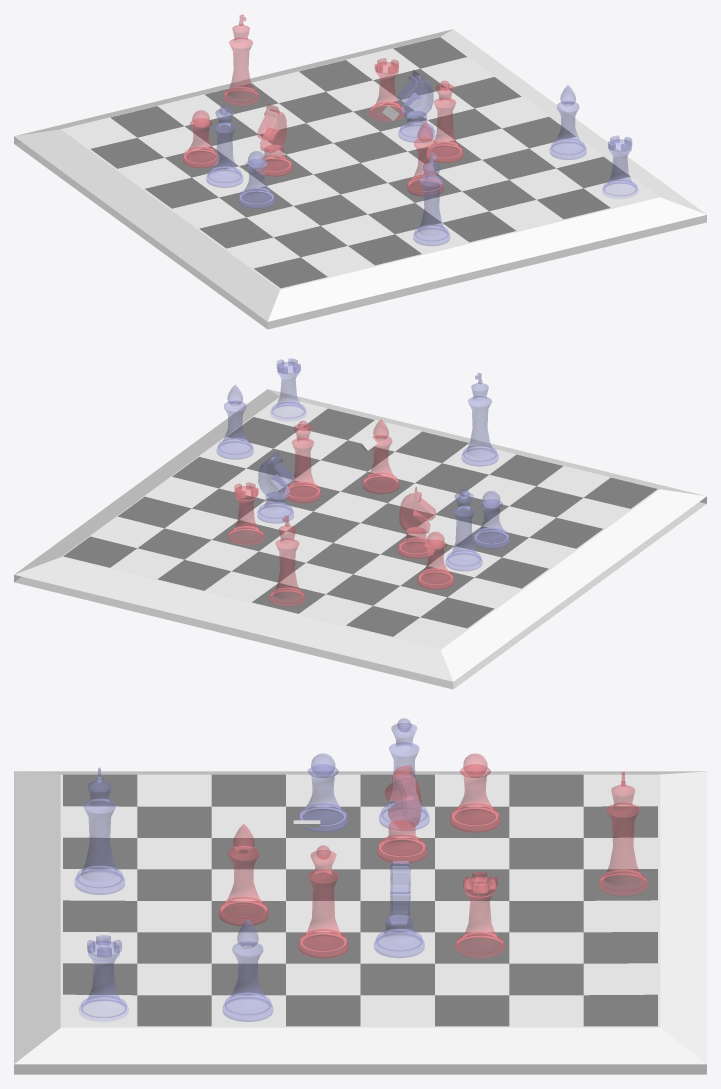
File: chess.glb
The picture shows the model from 3 angles, top to bottom: view 1: azimuth 30°, elevation 25°; view 2: azimuth 150°, elevation 25°; view 3: azimuth 270°, elevation 25°; orthographic projection. The views are drawn at different scales.
Visible parts, largest first — view 1: board, king.002, queen.002, king, queen, bishop.002, rook.002, horse head.001, pawn.002, rook, pawn.001, bishop (+3 smaller); view 2: board, king.002, queen.002, queen, king, bishop.002, rook, rook.002, bishop, pawn.002, pawn.001, horse head (+3 smaller); view 3: board, king.002, queen, king, queen.002, bishop.002, rook, rook.002, bishop, pawn.001, pawn.002, horse head (+3 smaller).
Boxes of the visible parts, x1,y1,x2,y2 form: board: (14, 29, 706, 329); king.002: (413, 162, 449, 245); queen.002: (206, 105, 242, 187); king: (223, 24, 259, 105); queen: (427, 80, 463, 162); bishop.002: (550, 101, 586, 159); rook.002: (602, 139, 638, 198); horse head.001: (397, 70, 433, 117); pawn.002: (238, 159, 274, 208); rook: (369, 62, 404, 121); pawn.001: (183, 118, 218, 167); bishop: (407, 138, 443, 196); board: (14, 389, 706, 689); king.002: (462, 382, 498, 466); queen.002: (446, 489, 482, 570); queen: (285, 421, 320, 502); king: (269, 525, 305, 606); bishop.002: (217, 401, 253, 459); rook: (228, 486, 264, 545); rook.002: (270, 362, 306, 420); bishop: (363, 435, 399, 493); pawn.002: (473, 499, 509, 548); pawn.001: (417, 540, 453, 589); horse head: (399, 487, 435, 533); board: (14, 771, 706, 1074); king.002: (75, 780, 124, 894); queen: (298, 845, 348, 958); king: (598, 784, 648, 895); queen.002: (379, 718, 429, 830); bishop.002: (223, 941, 272, 1021); rook: (455, 877, 504, 958); rook.002: (79, 940, 128, 1021); bishop: (219, 846, 268, 925); pawn.001: (450, 764, 500, 832); pawn.002: (298, 764, 347, 832); horse head: (385, 765, 420, 830).
Size of the model in its own units: 13.21 by 3.03 by 13.21.
